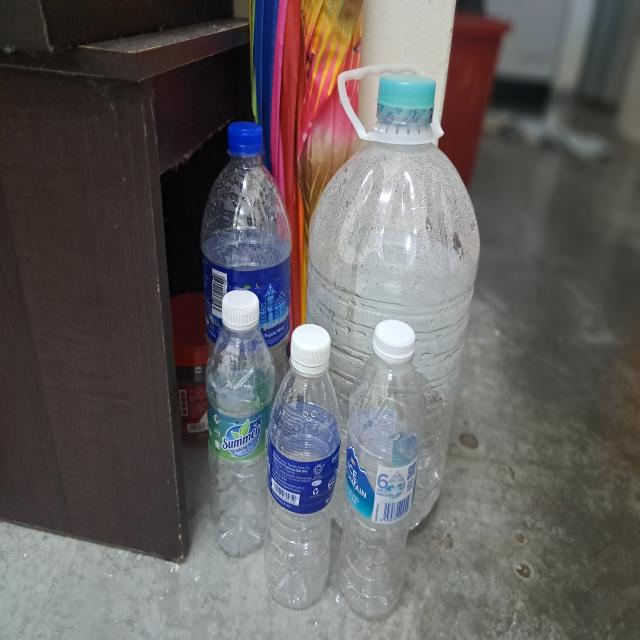plastic bottle: (306, 140, 484, 534), (199, 154, 295, 430), (350, 355, 425, 615), (202, 325, 276, 554), (270, 364, 334, 607)
plastic bottle cap: (375, 67, 440, 136), (288, 323, 332, 378), (368, 313, 417, 362), (220, 282, 258, 336), (223, 114, 264, 161)
